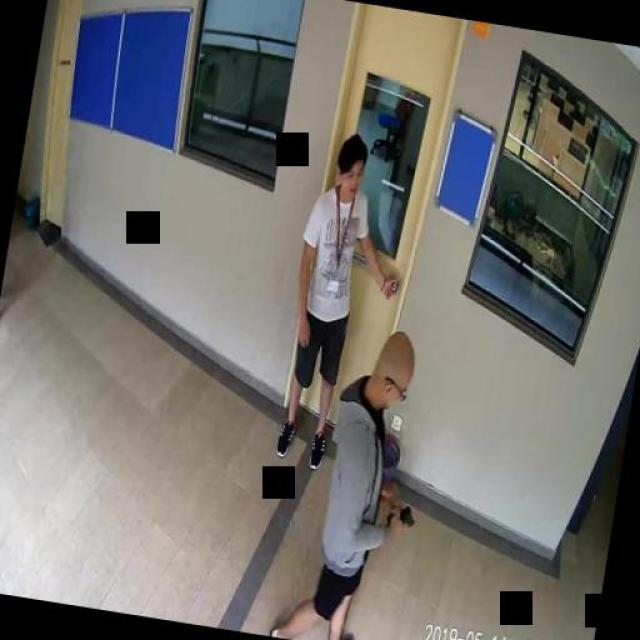gun: (385, 496, 416, 536)
